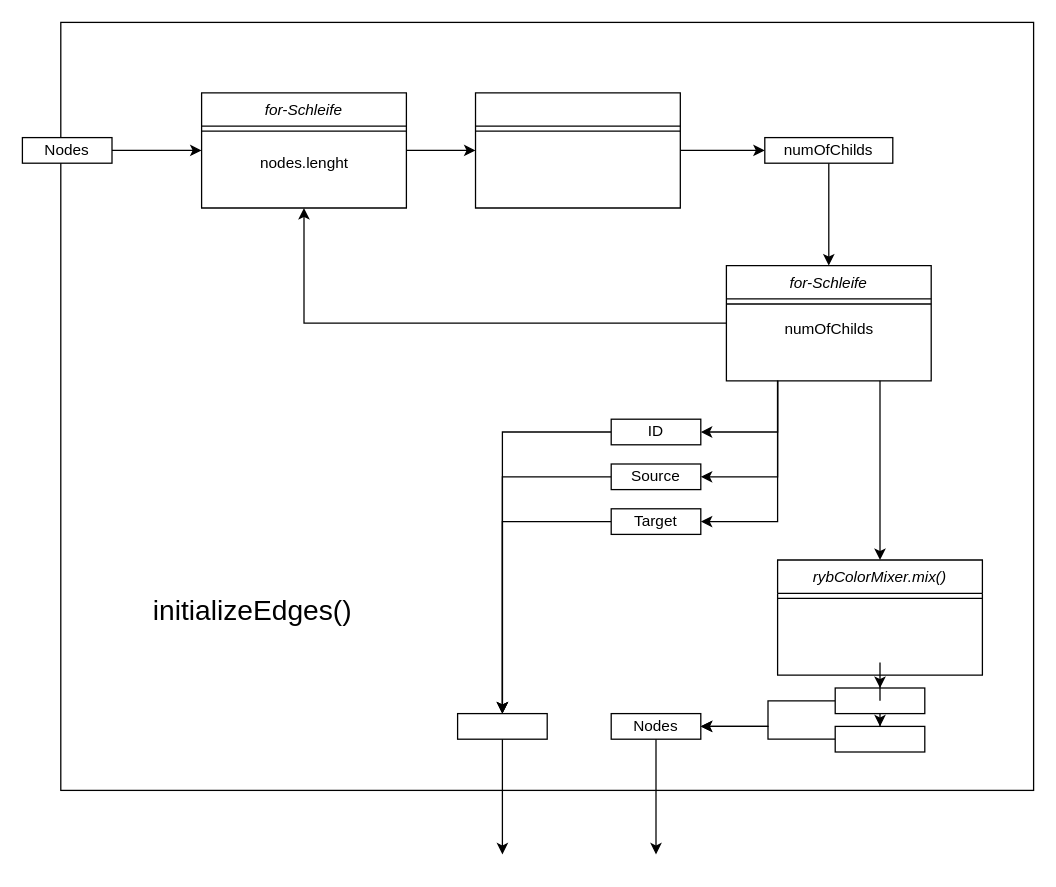
Image size: 1056x887. Some labels were removed from this diagram. The shapes that lost their labels are listed below. From the top down, each one's centre as x and y in pixels, then its label:
At point (577, 150): "randomInteger()".
At point (879, 700): "mixedColor".
At point (501, 725): "Edges".
At point (879, 738): "originalColor".
